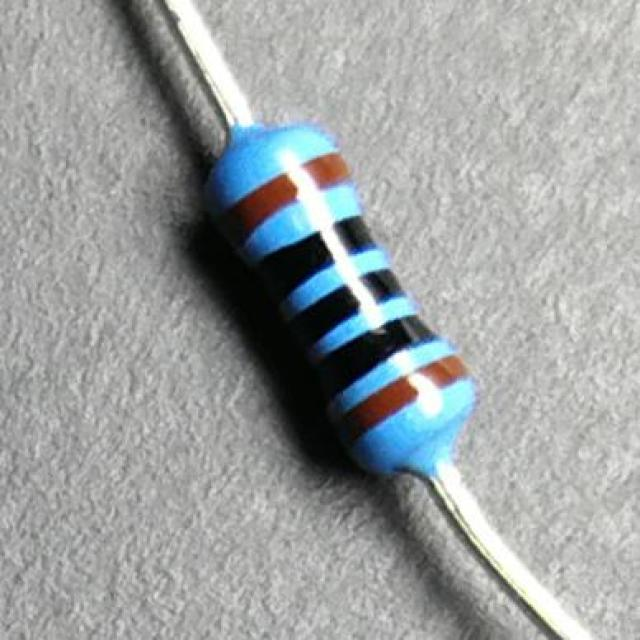Resistor: (186, 117, 490, 488)
